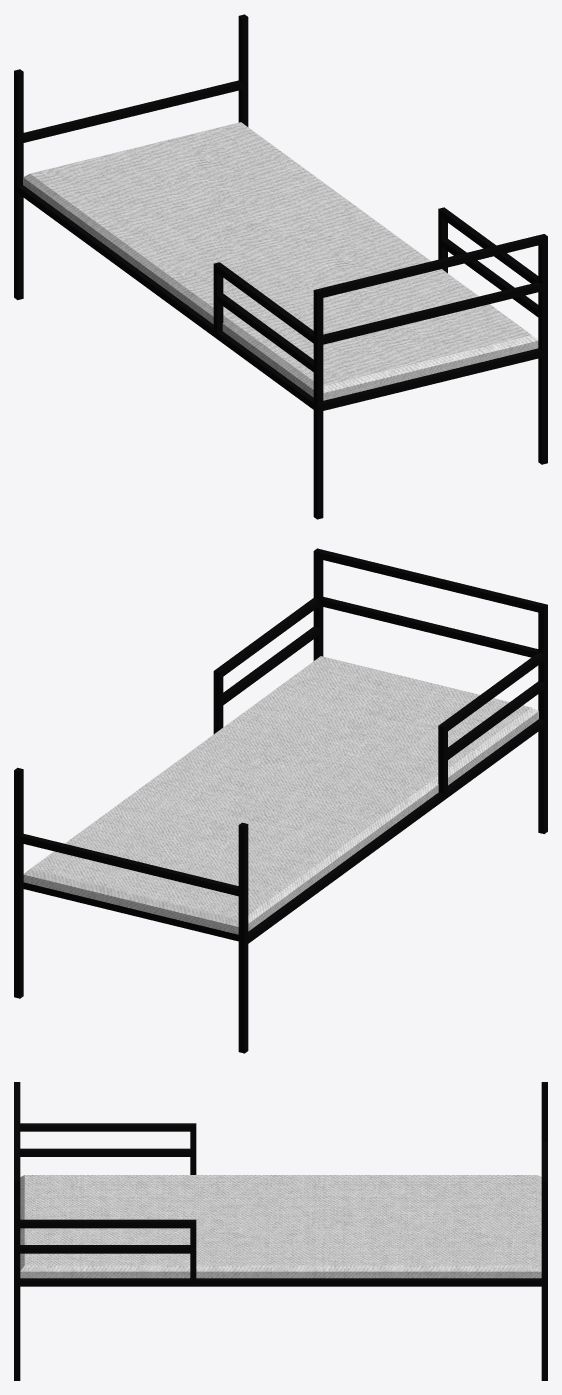
File: bed_bottom.fbx
The picture shows the model from 3 angles, top to bottom: view 1: azimuth 30°, elevation 25°; view 2: azimuth 150°, elevation 25°; view 3: azimuth 270°, elevation 25°; orthographic projection. The views are drawn at different scales.
Visible parts, largest first — view 1: bed_bottom; view 2: bed_bottom; view 3: bed_bottom.
Part boxes in pixels (x1,y1,x2,y2): bed_bottom: (14,14,547,519); bed_bottom: (14,548,547,1053); bed_bottom: (14,1082,547,1380).
Size of the model in its own units: 132 by 124 by 301.
